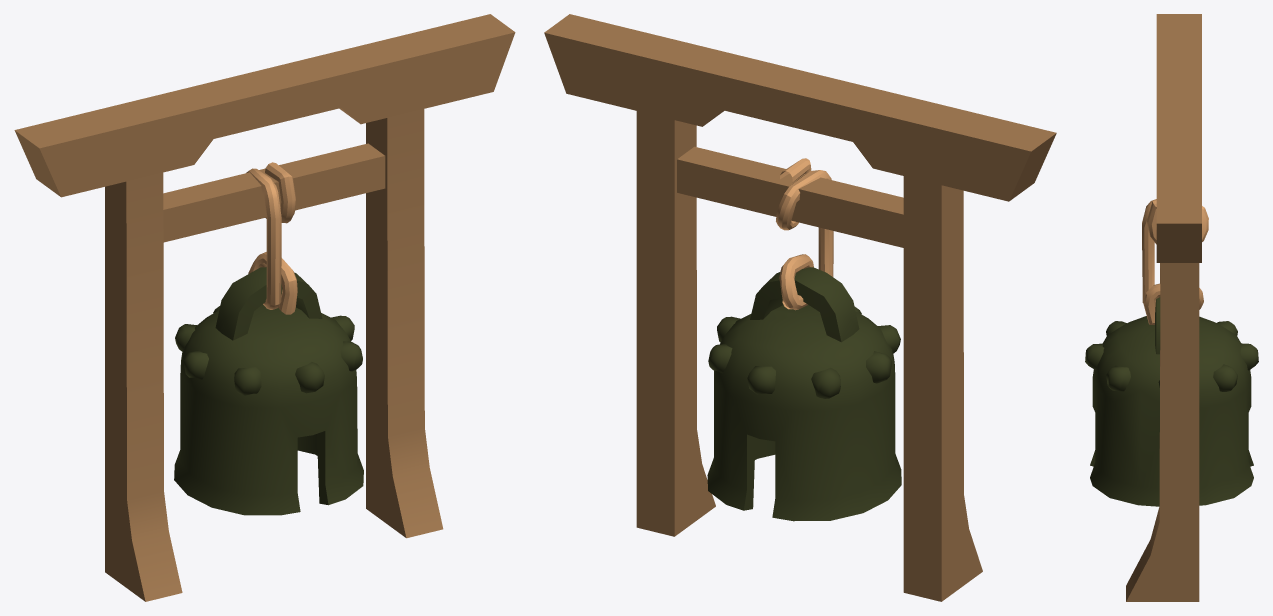
File: cc0-bell-lod1.glb
3 renders of one model, left to right at view 1: azimuth 30°, elevation 25°; view 2: azimuth 150°, elevation 25°; view 3: azimuth 270°, elevation 25°, orthographic. The views are drawn at different scales.
Visible parts, largest first — view 1: part_0; view 2: part_0; view 3: part_0.
Boxes of the visible parts, x1,y1,x2,y2 form: part_0: (14,14,515,601); part_0: (544,14,1056,601); part_0: (1085,14,1258,601).
Bounding box in the file's own units: 3.92 × 3.64 × 1.37.
Materials: 1 (1 with a texture image).
